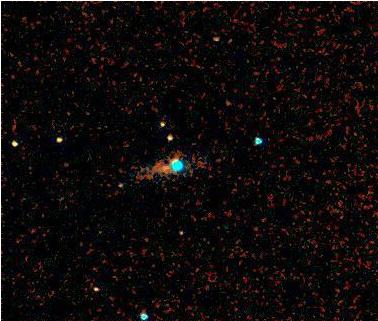star: (208, 88, 238, 118)
